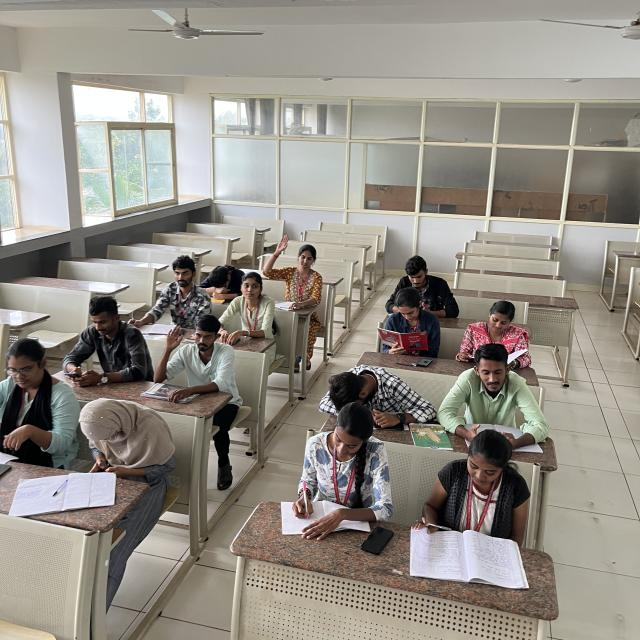Hand Rising: (142, 294, 246, 410), (264, 225, 338, 323)
Reading: (448, 349, 554, 435), (444, 295, 534, 372), (365, 287, 434, 356)
Sleeping: (324, 340, 416, 418)
Using Phone: (66, 387, 205, 488), (49, 280, 157, 388), (356, 241, 466, 315)
Writing: (276, 407, 388, 528), (411, 434, 530, 546)
